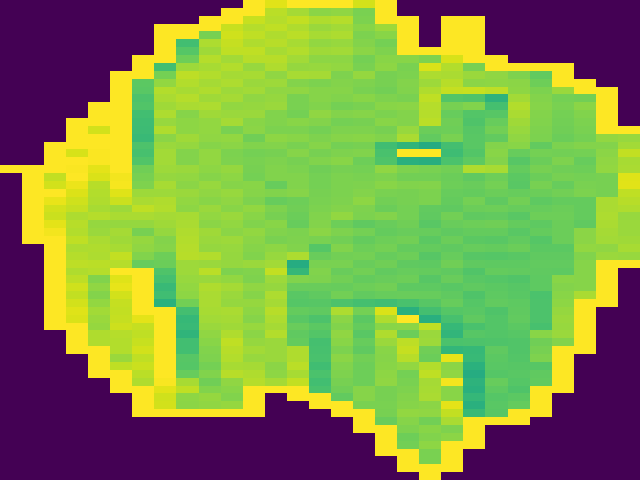car_0027: (3, 1, 640, 474)
